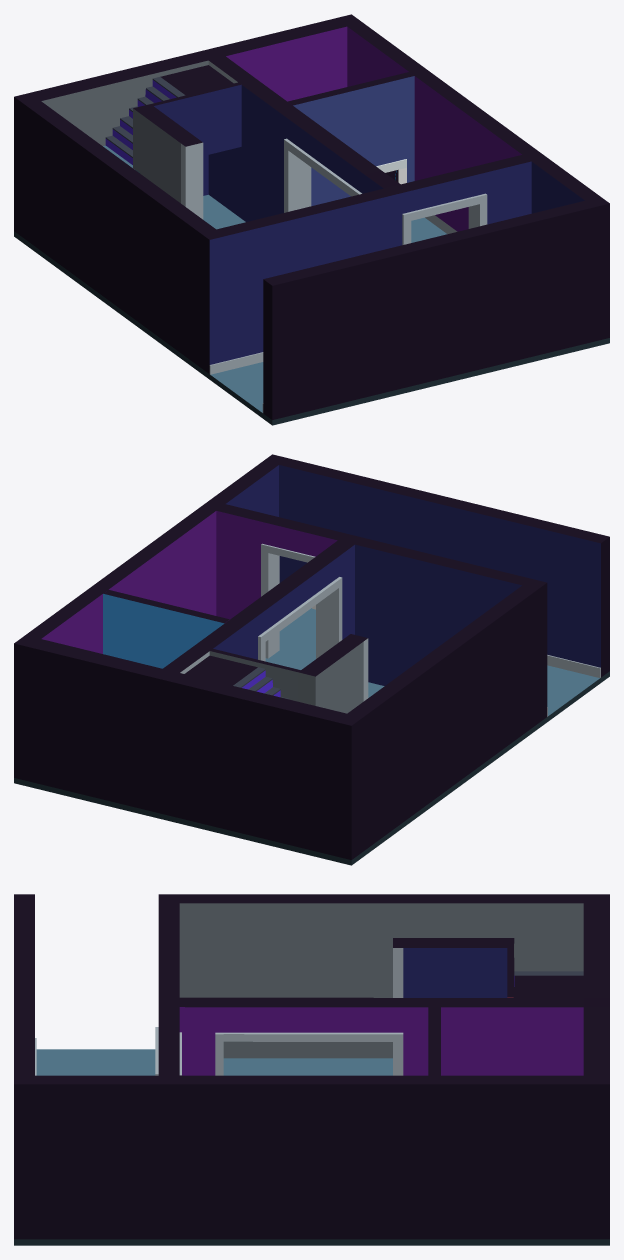
The model's file is Interior_Test01.fbx.
3 views of the same model, one above another, from view 1: azimuth 30°, elevation 25°; view 2: azimuth 150°, elevation 25°; view 3: azimuth 270°, elevation 25° (orthographic). The views are drawn at different scales.
Visible parts, largest first — view 1: Cube.055, CubeHome.004; view 2: Cube.055, CubeHome.004; view 3: Cube.055.
Boxes of the visible parts, bbox=[...] form: Cube.055: bbox=[14, 14, 609, 425]; CubeHome.004: bbox=[105, 77, 185, 164]; Cube.055: bbox=[14, 454, 609, 865]; CubeHome.004: bbox=[233, 667, 289, 699]; Cube.055: bbox=[14, 894, 609, 1245].
Size of the model in its own units: 1034 by 409 by 1371.
